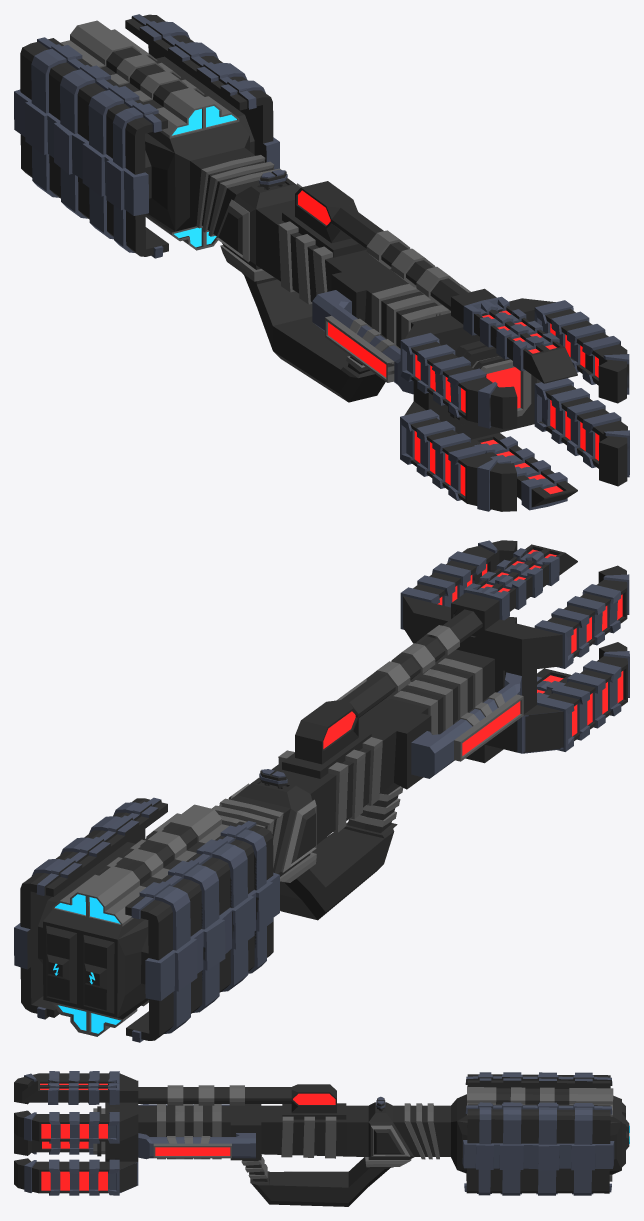
File: Thunderer.fbx
The picture shows the model from 3 angles, top to bottom: view 1: azimuth 30°, elevation 25°; view 2: azimuth 150°, elevation 25°; view 3: azimuth 270°, elevation 25°; orthographic projection. The views are drawn at different scales.
Parts seen in each view (by area): view 1: Cube.001; view 2: Cube.001; view 3: Cube.001.
Part boxes in pixels (left/top/right/bottom): Cube.001: left=14, top=14, right=629, bottom=511; Cube.001: left=14, top=540, right=629, bottom=1042; Cube.001: left=14, top=1071, right=629, bottom=1206.
Bounding box in the file's own units: 0.369 × 0.3984 × 1.89.
1 material, 1 textured.
